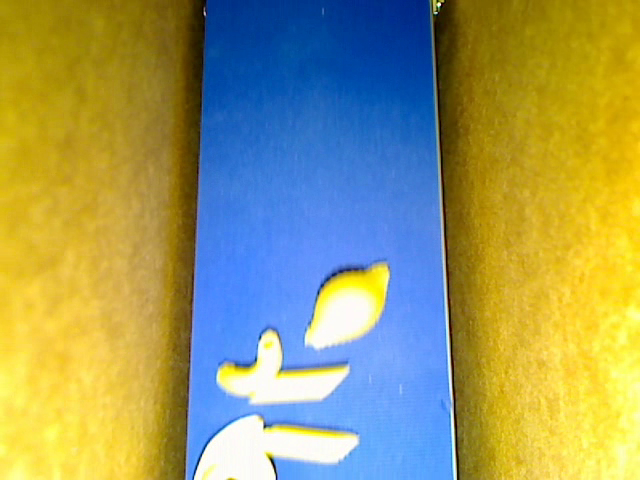elbow: (215, 328, 284, 398)
penne: (247, 363, 351, 404), (260, 423, 359, 462)
shell: (303, 260, 391, 353)
tortellini: (191, 412, 276, 479)
